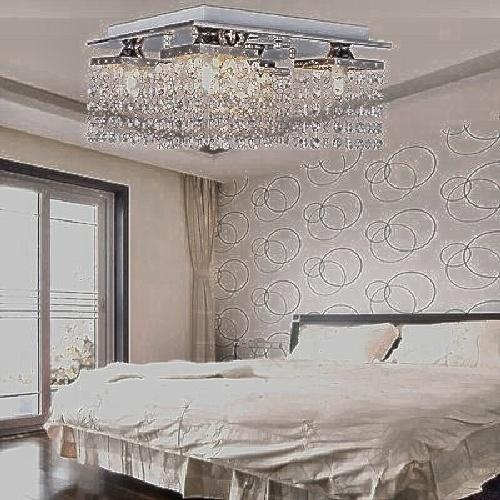lamp: (87, 12, 388, 153)
